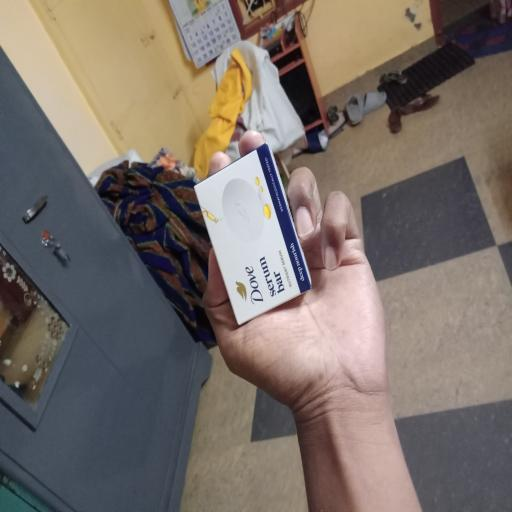Dove`1: (189, 143, 319, 327)
